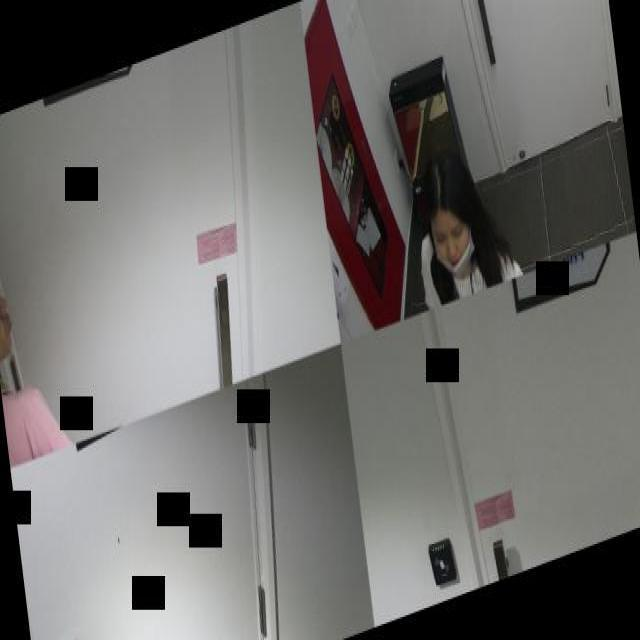hairnet: (432, 210, 473, 276)
